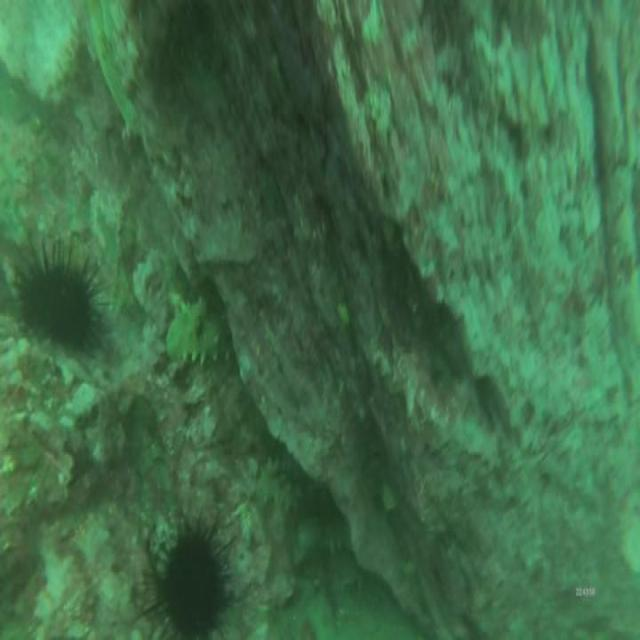echinus: (139, 501, 238, 640), (13, 235, 111, 364)
holothurian: (161, 296, 239, 378), (252, 451, 314, 514), (295, 516, 365, 560)
